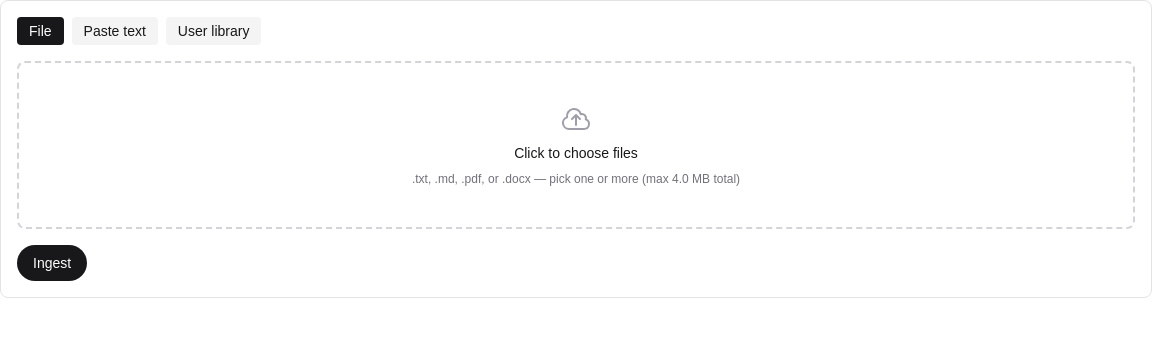
Test: FileUpload › file mode: refuses an empty submit without a request
The width and height of the screenshot is (1152, 351).
Click the button "Ingest" at (52, 263), box [17,245,87,281]
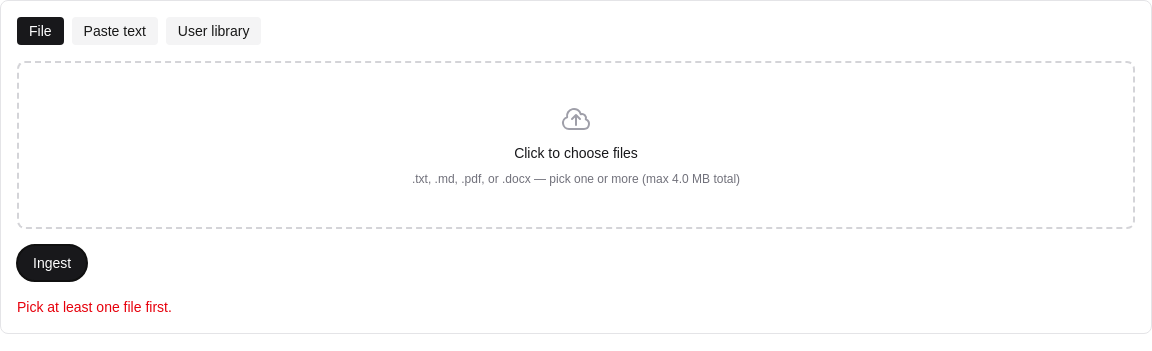
Expected: the text "Pick at least one file first." is shown, [17,299,172,315]
